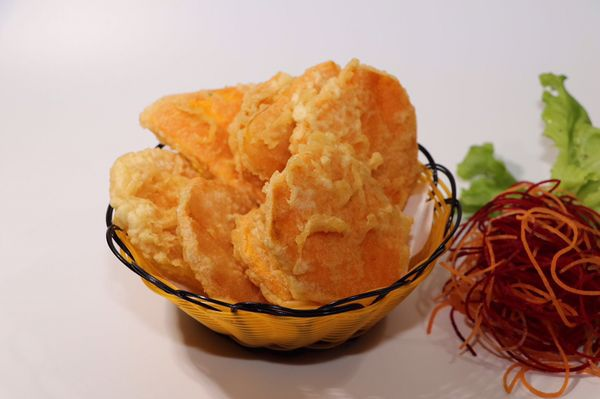sushi: (103, 57, 463, 352), (116, 139, 464, 352)
